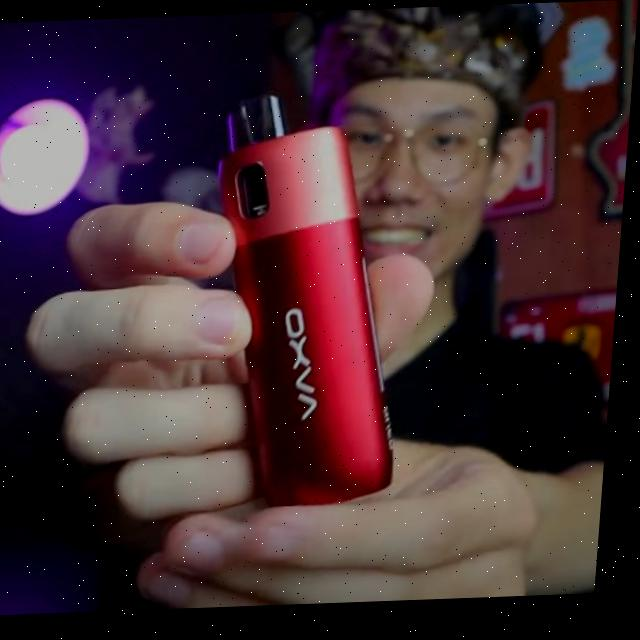vape: (201, 91, 424, 512)
